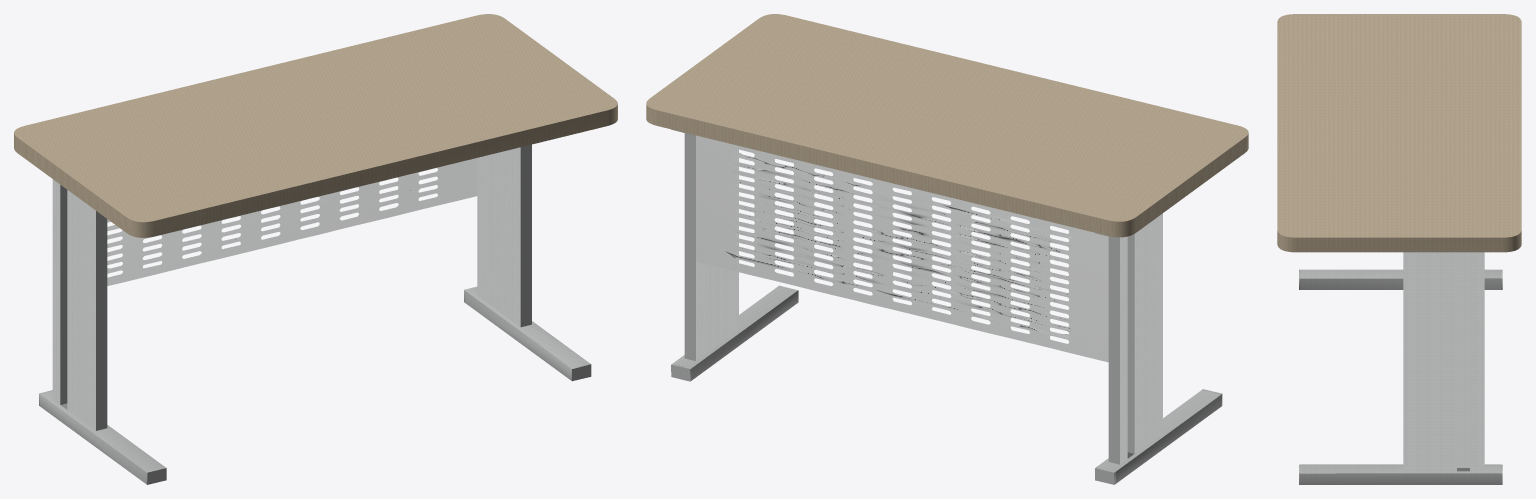
File: mesaOLD.obj
3 views of the same model, side by side, from view 1: azimuth 30°, elevation 25°; view 2: azimuth 150°, elevation 25°; view 3: azimuth 270°, elevation 25° (orthographic). The views are drawn at different scales.
Visible parts, largest first — view 1: Box557; view 2: Box557; view 3: Box557.
Part boxes in pixels (box(x1,y1,x2,y2)): Box557: box(14, 14, 617, 484); Box557: box(646, 14, 1248, 484); Box557: box(1277, 14, 1521, 484).
Size of the model in its own units: 20.27 by 10.88 by 9.36.
Materials: 3 (3 with a texture image).
